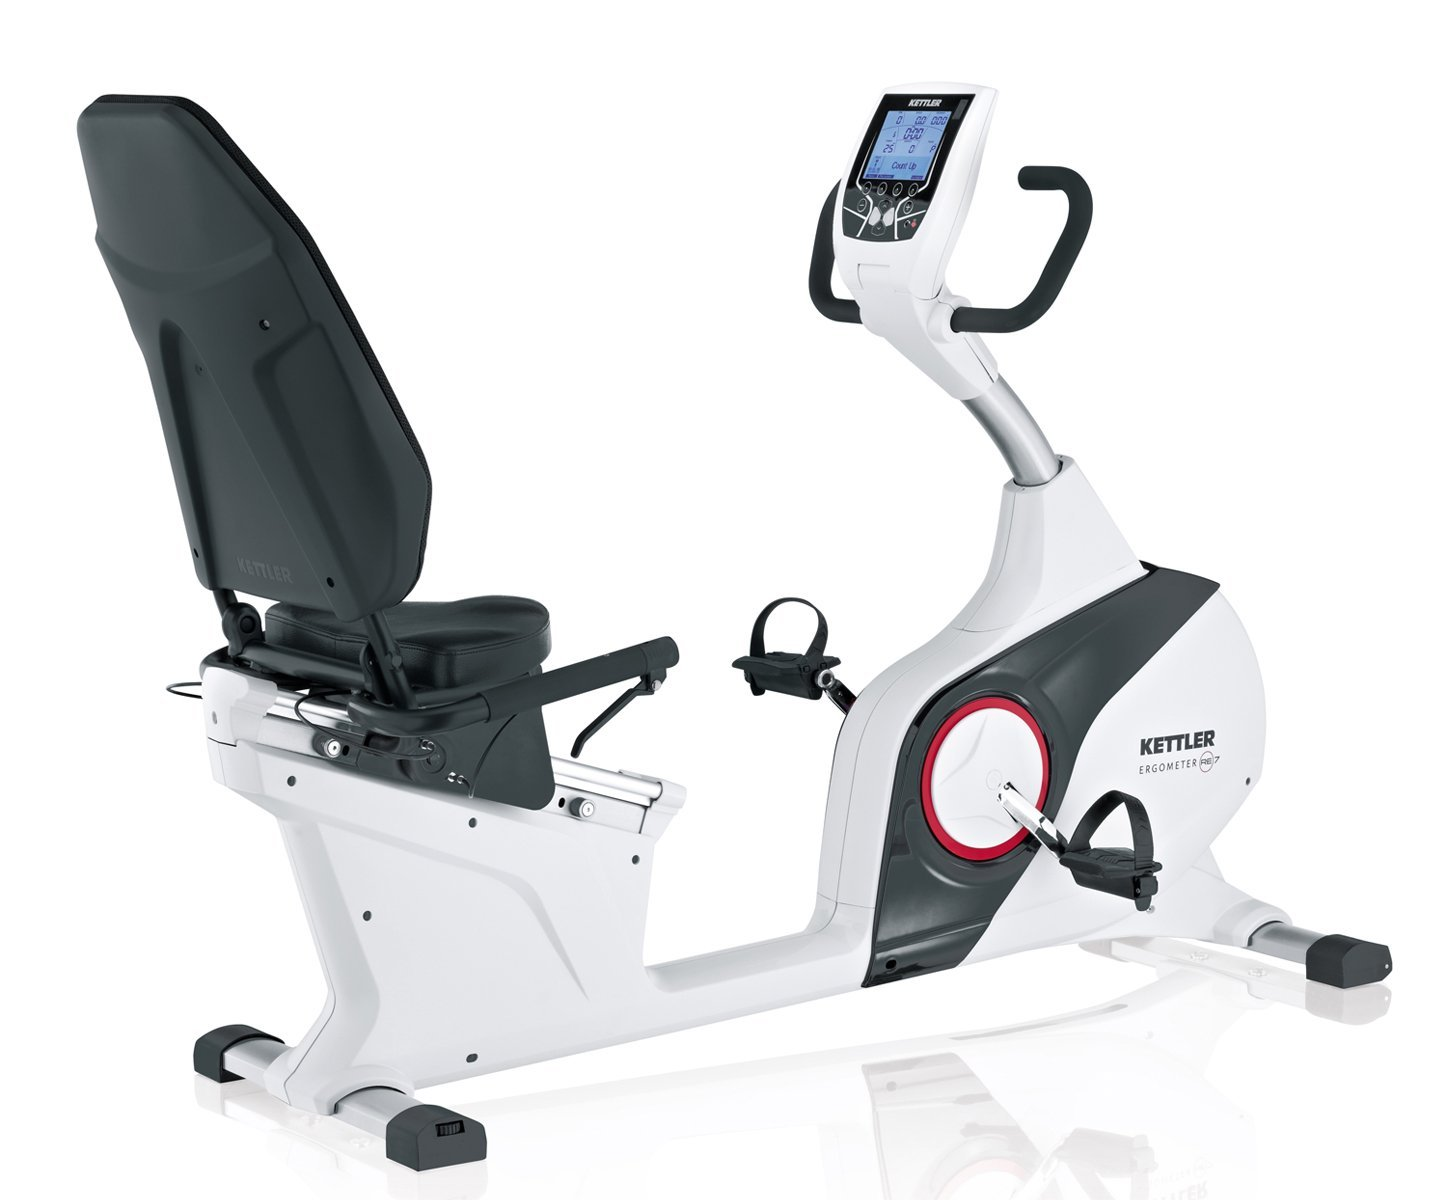gym_bike: (44, 52, 1403, 1178)
